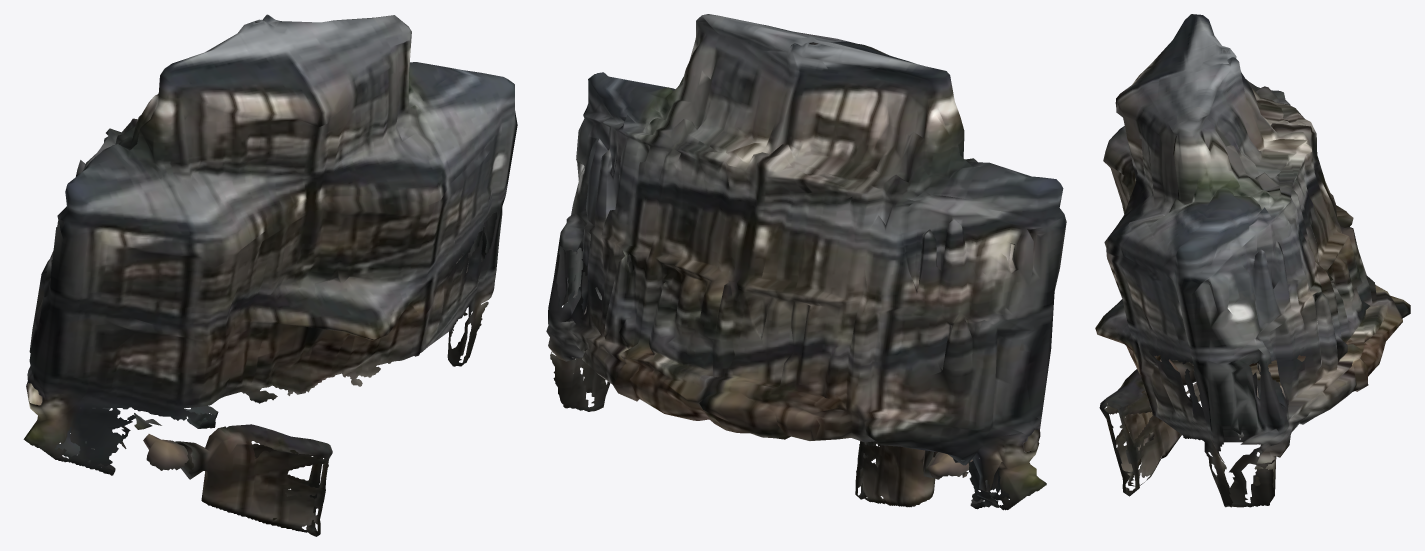
The model's file is penthouse.glb.
3 views of the same model, side by side, from view 1: azimuth 30°, elevation 25°; view 2: azimuth 150°, elevation 25°; view 3: azimuth 270°, elevation 25° (orthographic). The views are drawn at different scales.
Parts seen in each view (by area): view 1: geometry_0; view 2: geometry_0; view 3: geometry_0.
Boxes of the visible parts, x1,y1,x2,y2 form: geometry_0: (23, 14, 517, 536); geometry_0: (546, 14, 1066, 510); geometry_0: (1095, 14, 1410, 507).
Bounding box in the file's own units: 0.8984 × 0.8657 × 0.5579.
1 material, 1 textured.
